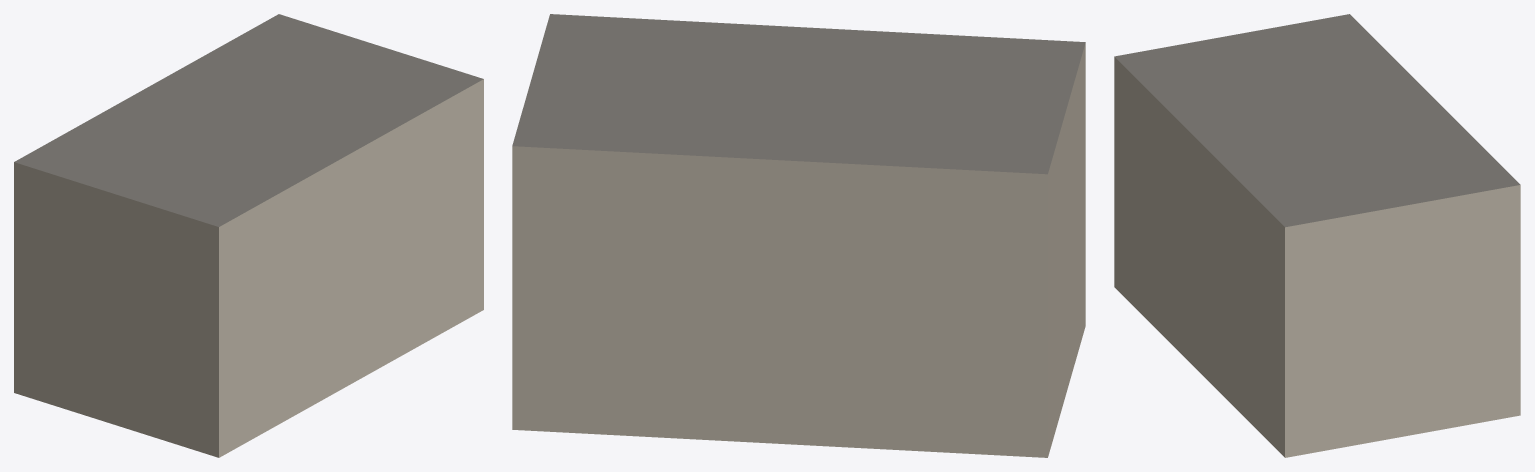
3 renders of one model, left to right at view 1: azimuth 30°, elevation 25°; view 2: azimuth 150°, elevation 25°; view 3: azimuth 270°, elevation 25°, orthographic. The views are drawn at different scales.
Visible parts, largest first — view 1: HP-w1286965205; view 2: HP-w1286965205; view 3: HP-w1286965205.
Part boxes in pixels (bbox=[...]): HP-w1286965205: bbox=[14, 14, 483, 457]; HP-w1286965205: bbox=[512, 14, 1085, 457]; HP-w1286965205: bbox=[1114, 14, 1520, 457].
Size of the model in its own units: 35.7 by 18 by 28.75.
